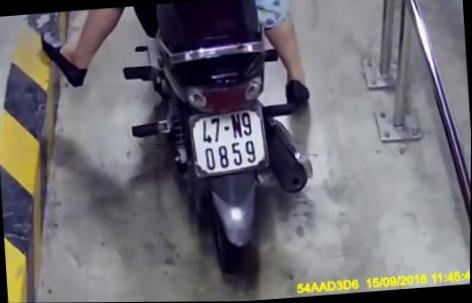LP: (184, 100, 273, 178)
